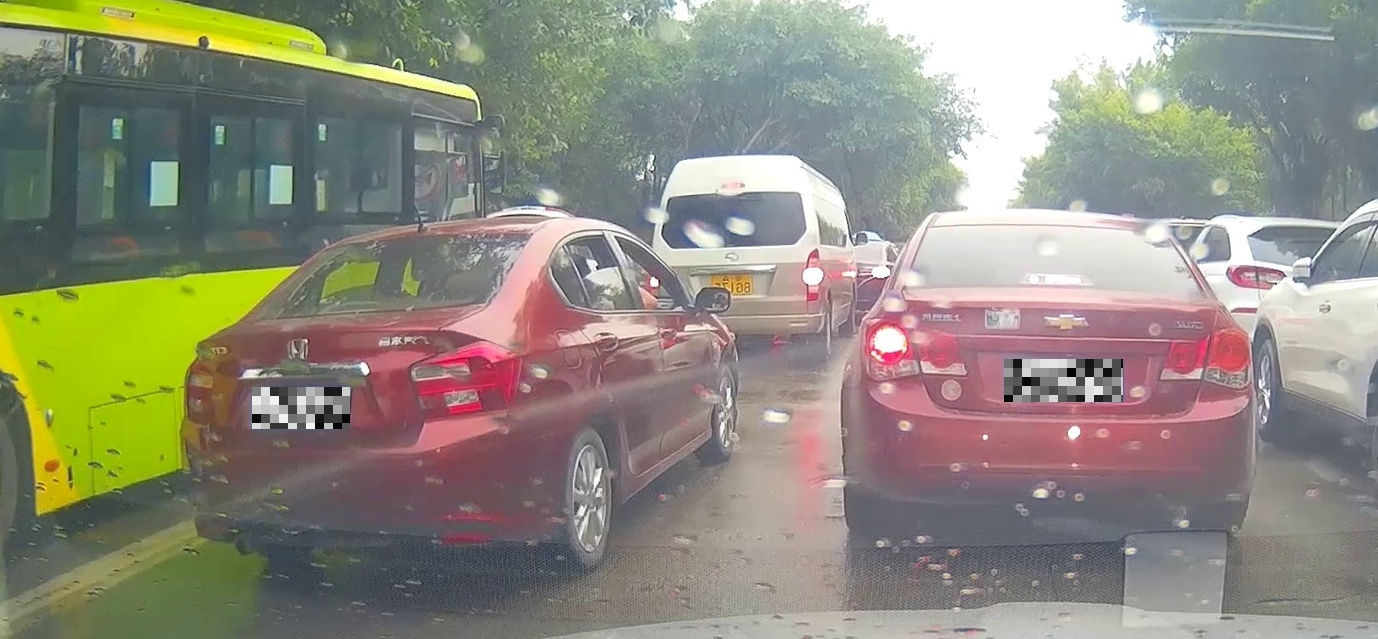L_light: (860, 316, 968, 382), (183, 355, 215, 427)
R_light: (409, 340, 521, 417), (1157, 325, 1253, 389)
T_light: (1017, 272, 1094, 287), (318, 301, 382, 313)
day-left: (839, 210, 1256, 533)
day-no: (183, 220, 534, 580)
plate_1: (252, 387, 350, 429)
plate_2: (1004, 359, 1123, 402)
